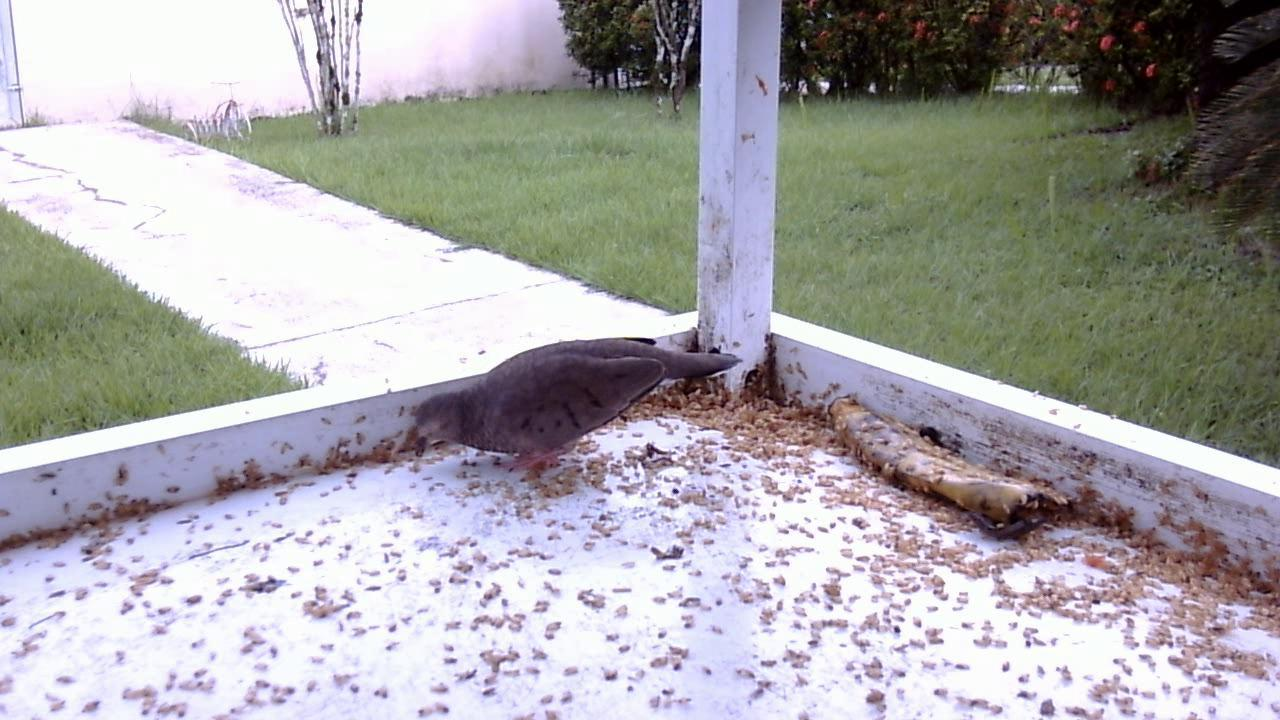rolinha: (409, 326, 750, 482)
